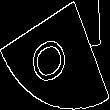O_NE: (30, 23, 80, 87)
